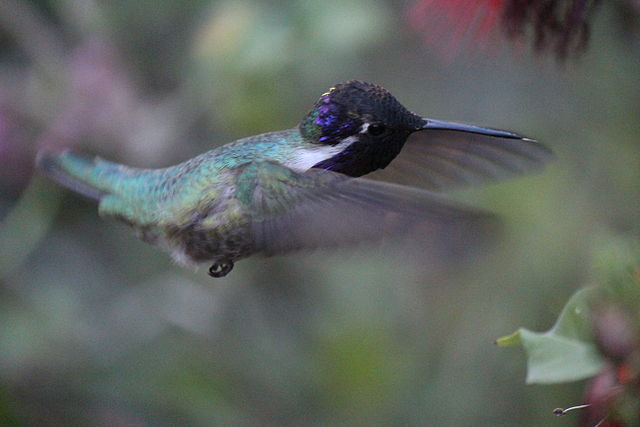calypte costae: (34, 80, 555, 286)
